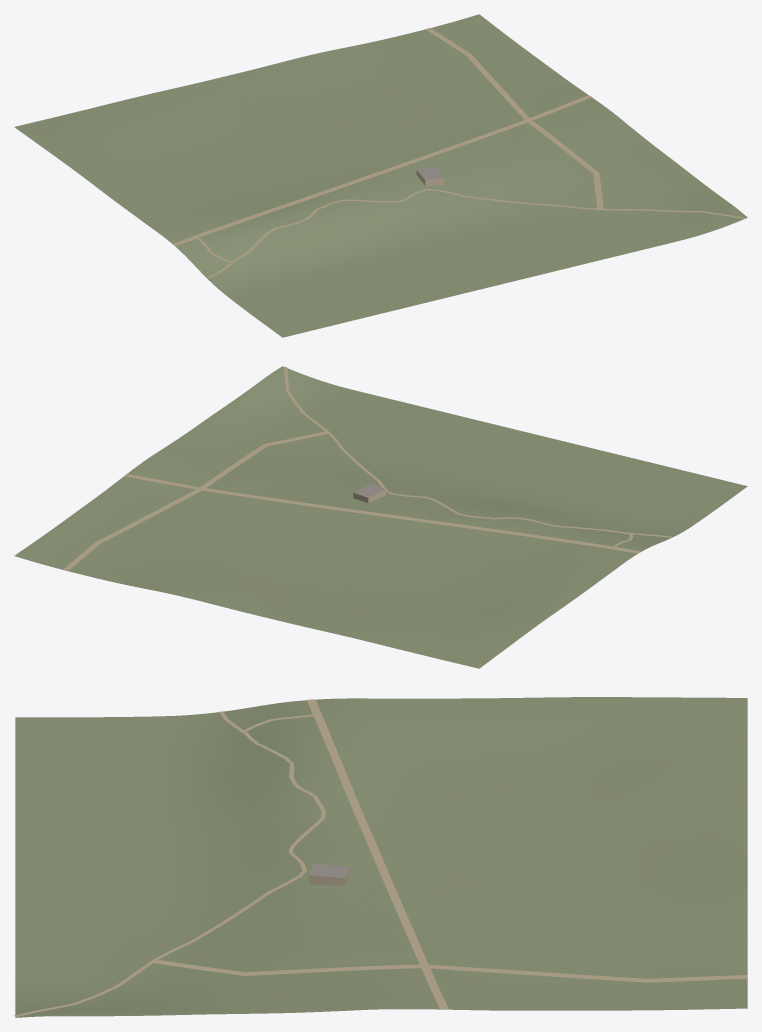
The picture shows the model from 3 angles, top to bottom: view 1: azimuth 30°, elevation 25°; view 2: azimuth 150°, elevation 25°; view 3: azimuth 270°, elevation 25°; orthographic projection. The views are drawn at different scales.
Parts seen in each view (by area): view 1: ground, path; view 2: ground, path; view 3: ground, path.
Boxes of the visible parts, left/top/right/bottom form: ground: left=14, top=14, right=747, bottom=337; path: left=172, top=28, right=745, bottom=278; ground: left=14, top=366, right=747, bottom=668; path: left=63, top=367, right=672, bottom=570; ground: left=15, top=697, right=747, bottom=1017; path: left=14, top=699, right=747, bottom=1016.
Size of the model in its own units: 250 by 7.95 by 251.
